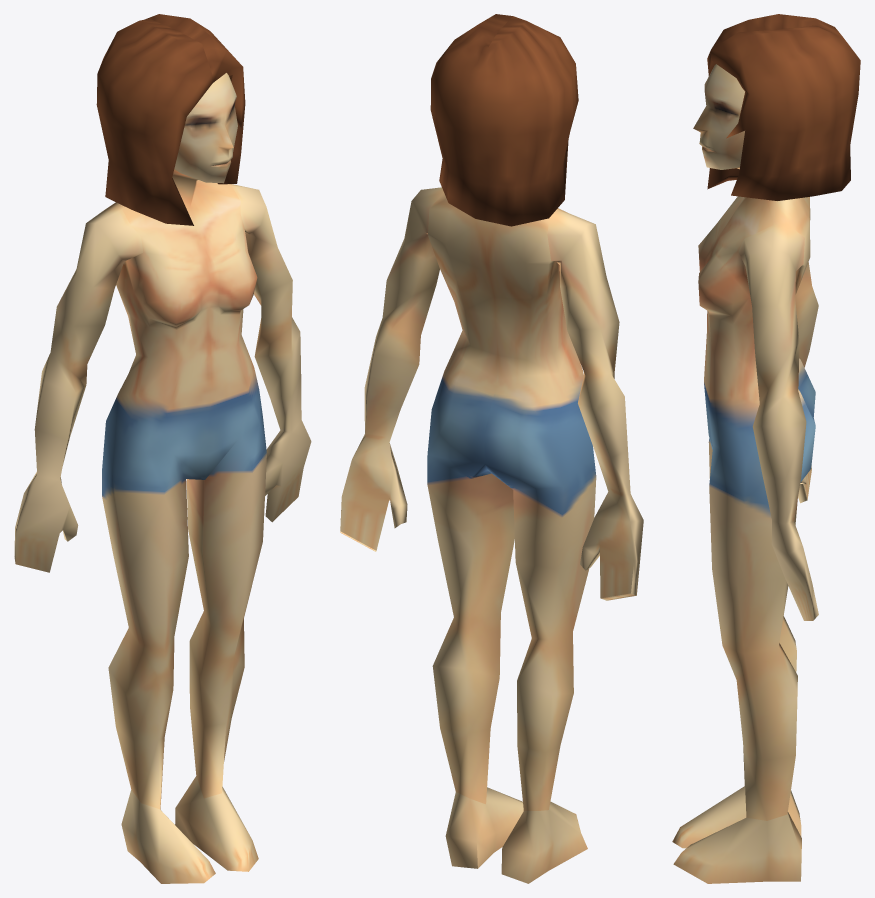
Rendered from StandingBody_Femme_b_1.fbx.
3 views of the same model, side by side, from view 1: azimuth 30°, elevation 25°; view 2: azimuth 150°, elevation 25°; view 3: azimuth 270°, elevation 25° (orthographic). The views are drawn at different scales.
Visible parts, largest first — view 1: Body.041; view 2: Body.041; view 3: Body.041.
Part boxes in pixels (x1,y1,x2,y2): Body.041: [14, 14, 311, 883]; Body.041: [340, 14, 643, 883]; Body.041: [672, 14, 860, 883].
Size of the model in its own units: 0.3665 by 0.9962 by 0.2023.
